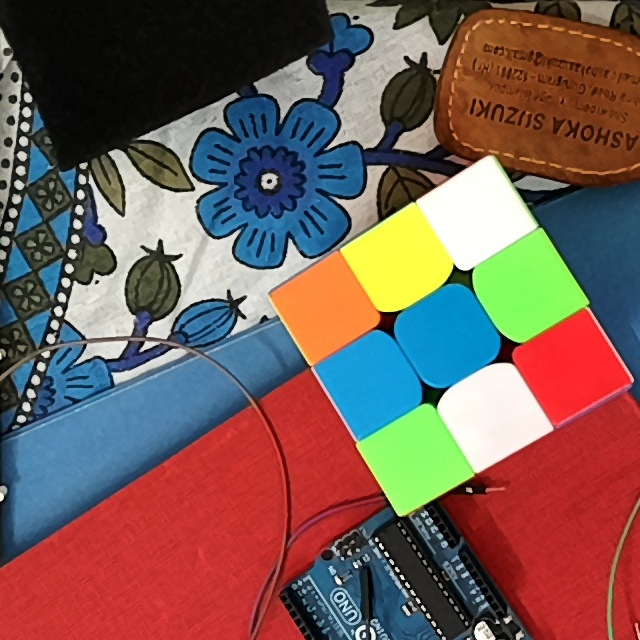tile: (498, 256, 560, 318), (418, 306, 480, 366), (461, 382, 521, 442), (449, 182, 508, 243), (343, 350, 402, 411), (543, 335, 604, 394), (387, 428, 444, 489), (295, 280, 354, 337), (371, 232, 429, 289)
